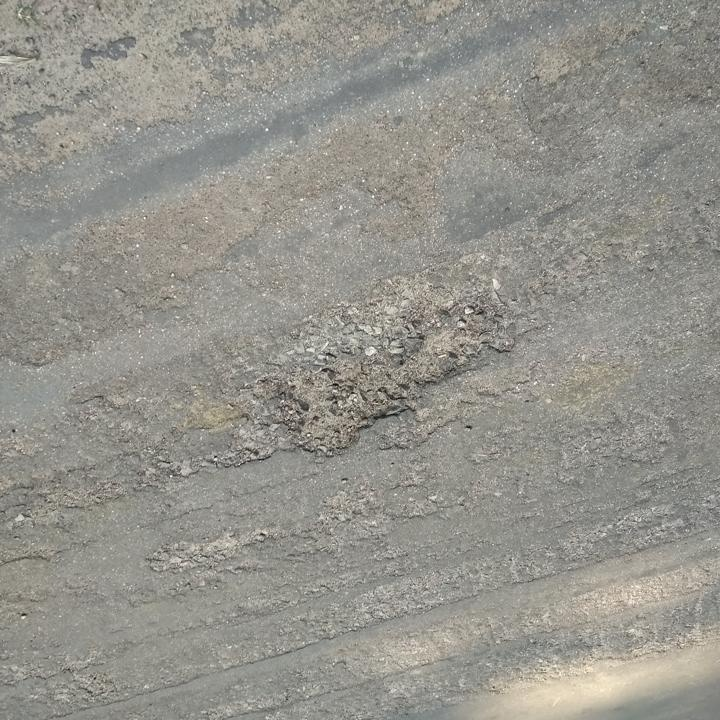pothole: (267, 294, 516, 465), (147, 526, 273, 575)
